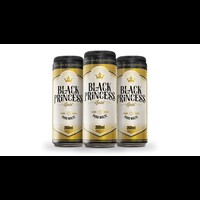blackprincess: (50, 55, 85, 148), (118, 54, 150, 152)
